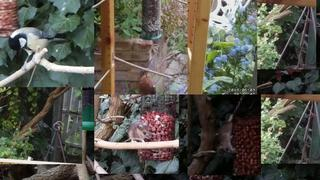great tit: (8, 27, 68, 72)
mouse: (112, 121, 152, 151), (217, 121, 234, 154)
